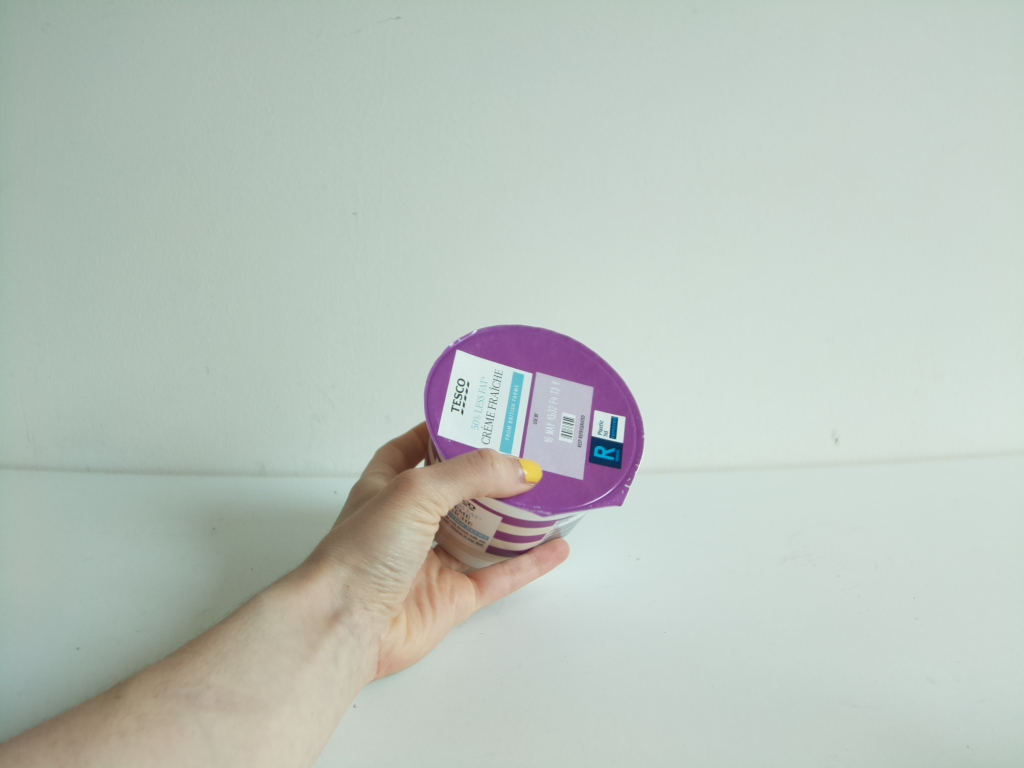cream: (422, 321, 649, 573)
